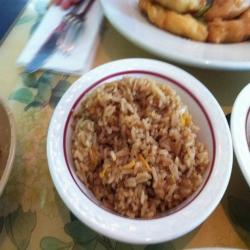rice: (62, 71, 215, 224)
